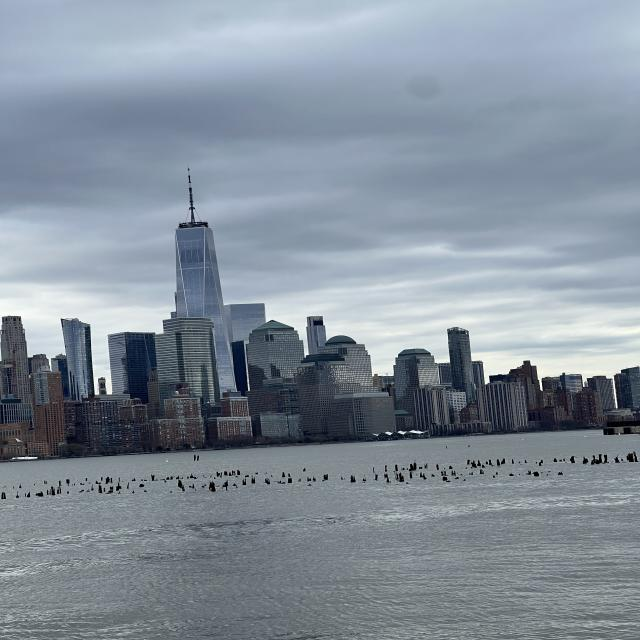WTC: (174, 168, 221, 319)
